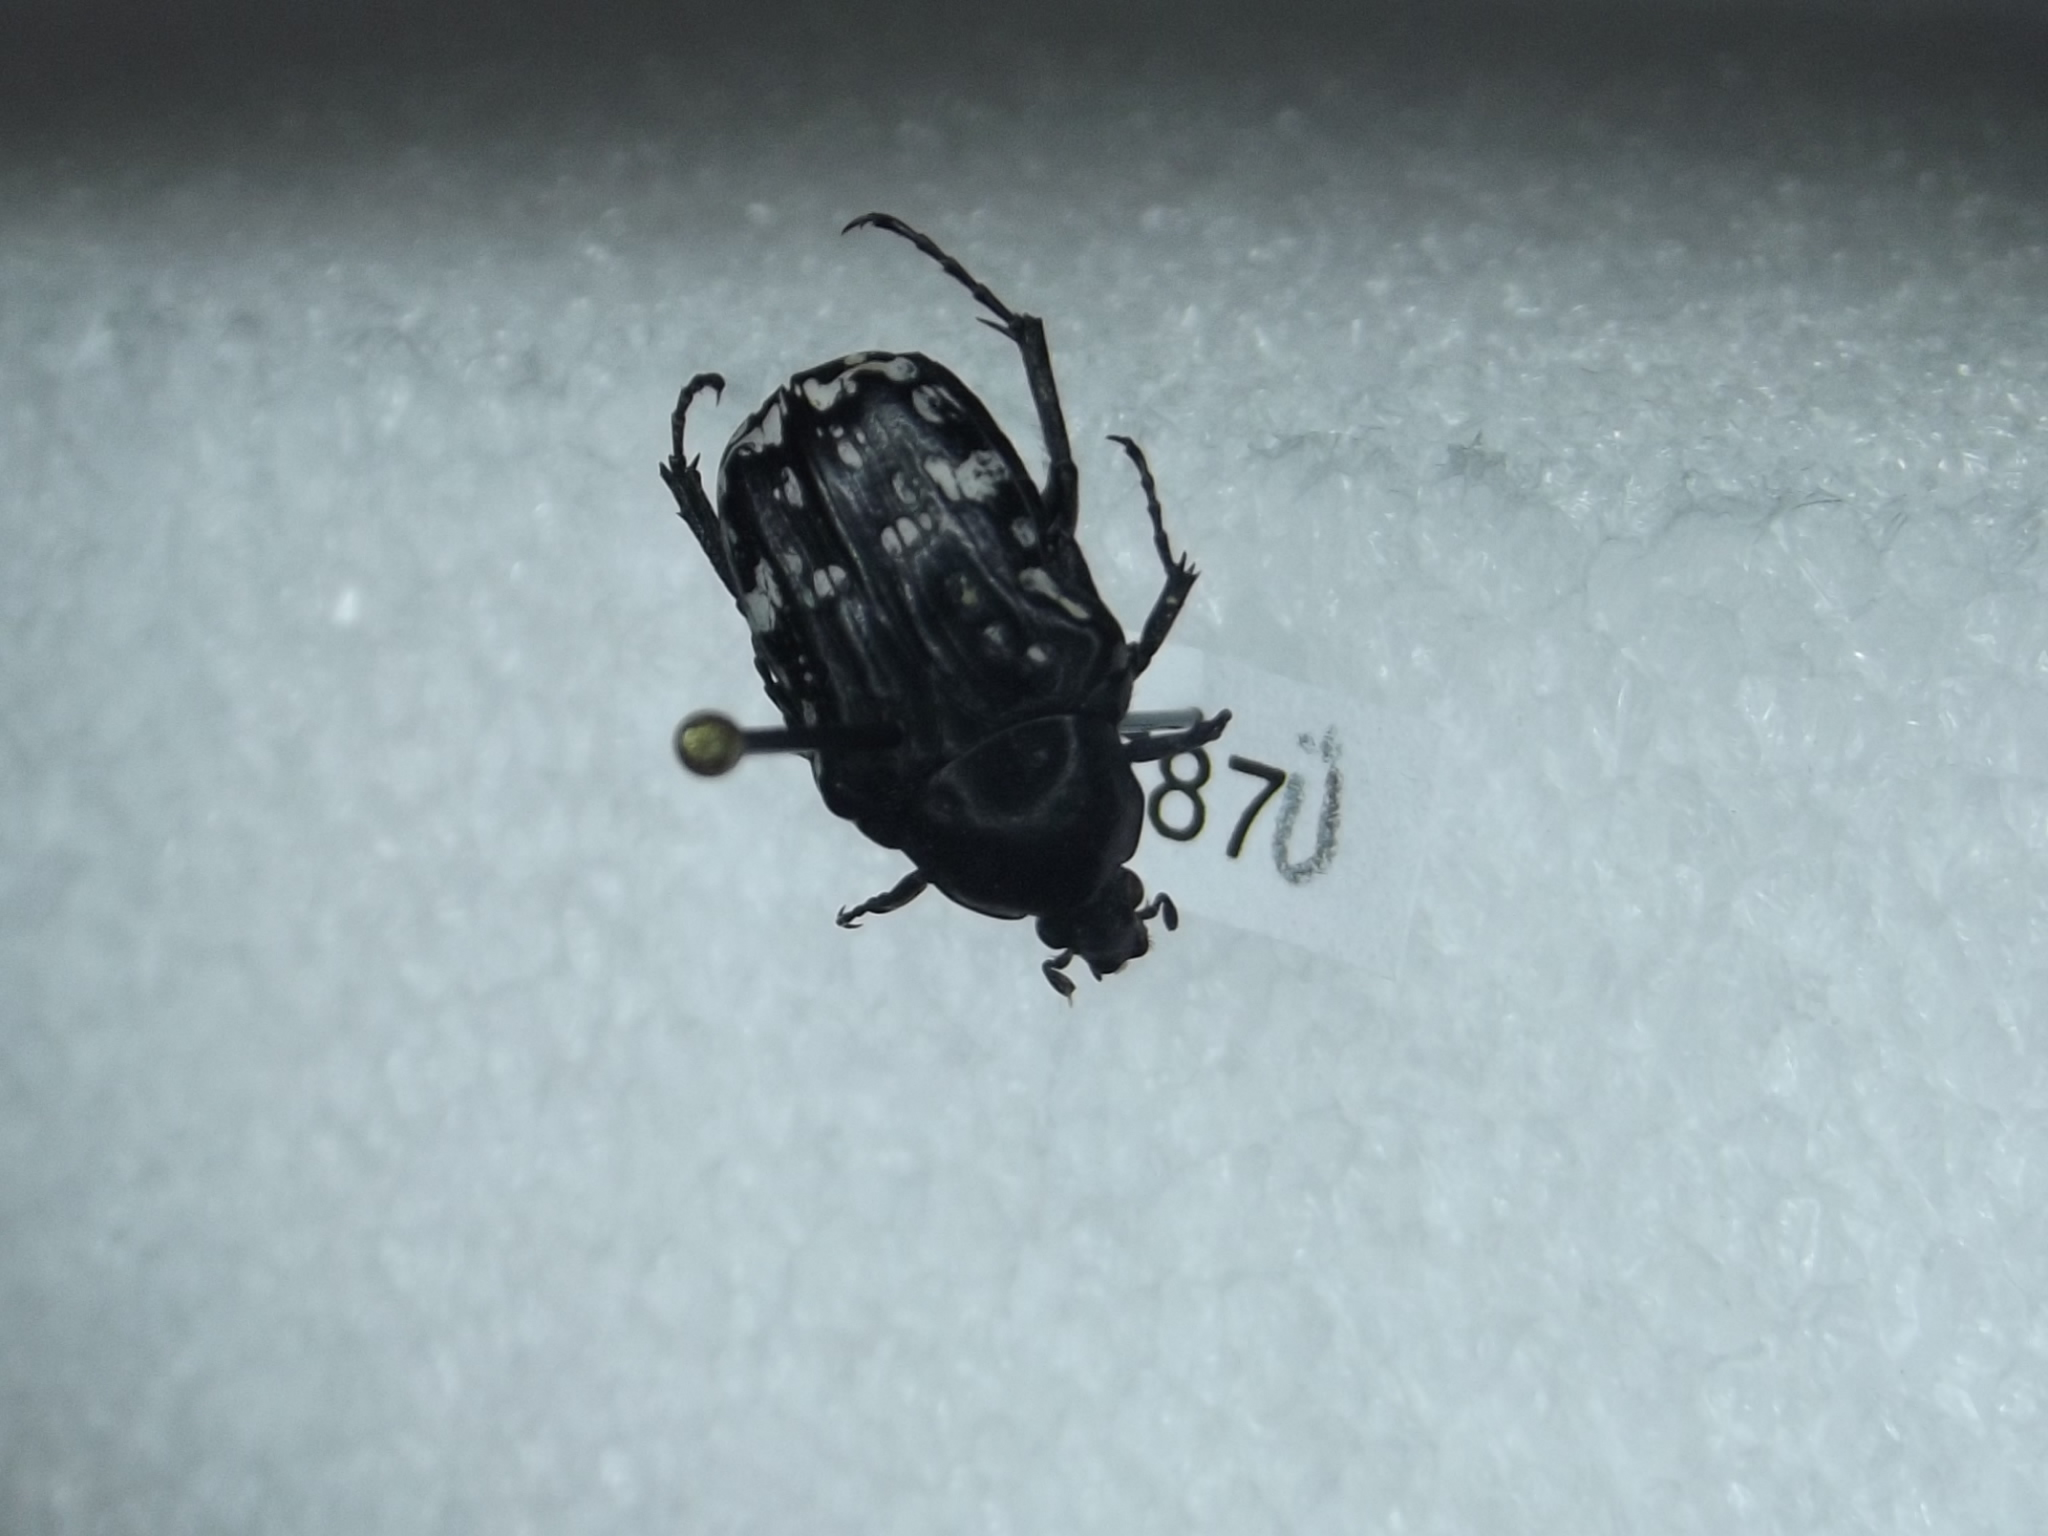Oxythyrea_albopicta: (640, 165, 1221, 994)
